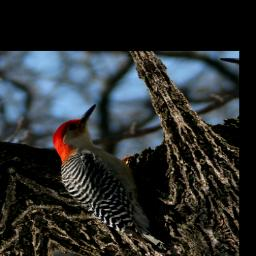Woodpecker: (28, 98, 189, 256)
